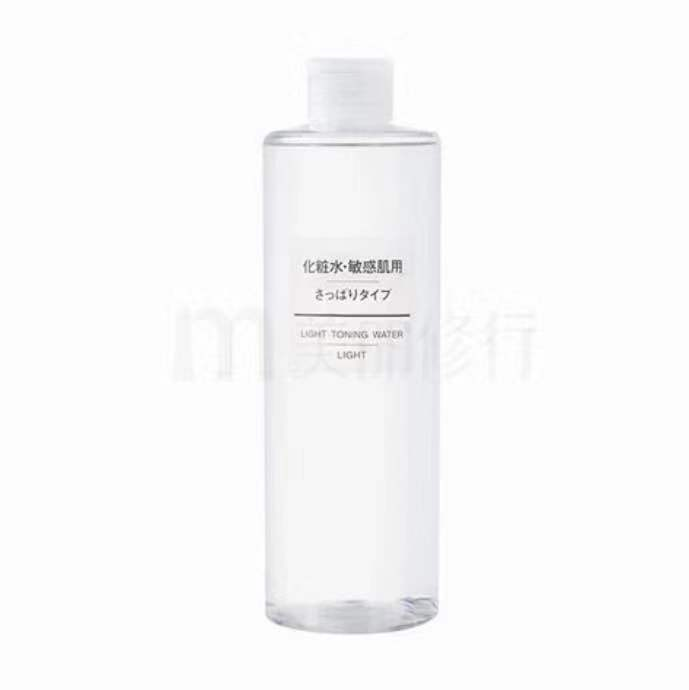cosmetic: (261, 61, 441, 628)
